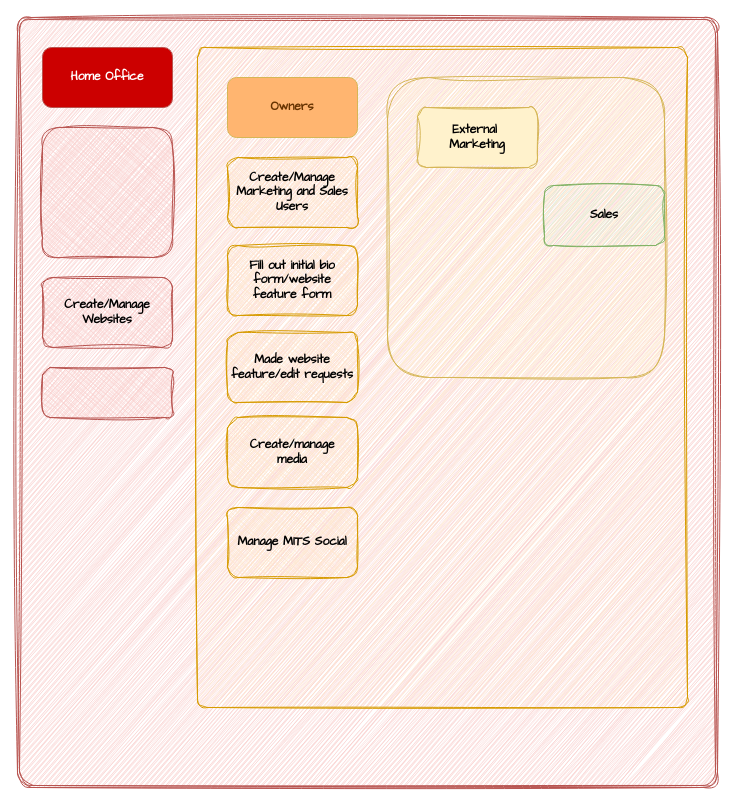
This 735x805 diagram has some shape labels left out. Here are the shapes that lost their labels. From the top down, the centre of each, then its label:
At (x=107, y=192): "Create/Manage Users".
At (x=107, y=392): "Manage Media".
